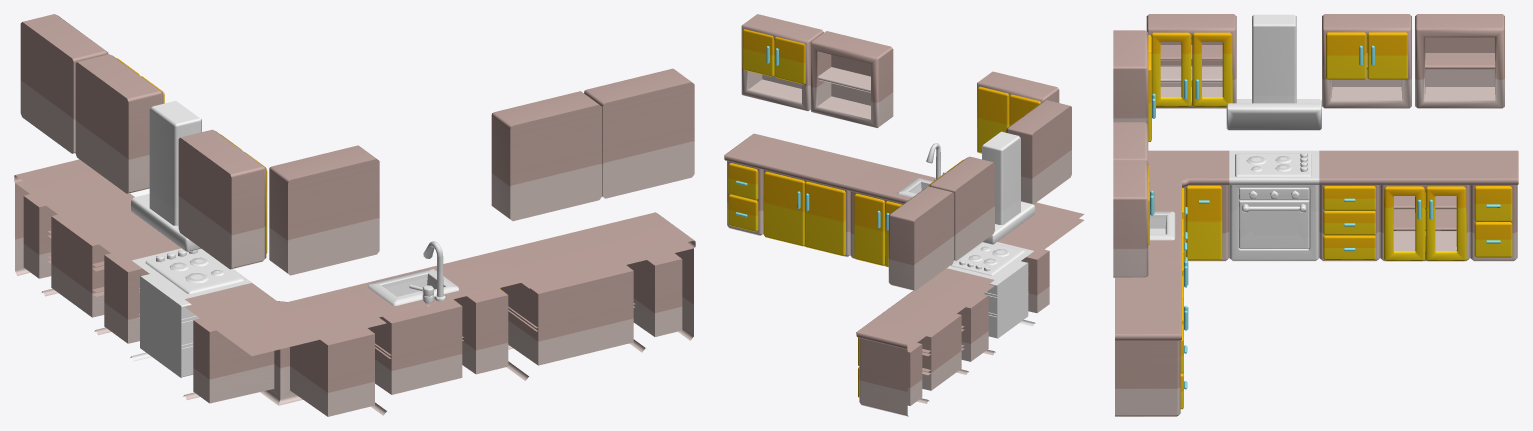
File: Kitchen_cabnets.fbx
3 views of the same model, side by side, from view 1: azimuth 30°, elevation 25°; view 2: azimuth 150°, elevation 25°; view 3: azimuth 270°, elevation 25° (orthographic). The views are drawn at different scales.
Parts seen in each view (by area): view 1: Kitchen_cabnets; view 2: Kitchen_cabnets; view 3: Kitchen_cabnets.
Boxes of the visible parts, x1,y1,x2,y2 form: Kitchen_cabnets: [14, 14, 695, 416]; Kitchen_cabnets: [724, 14, 1084, 416]; Kitchen_cabnets: [1113, 14, 1518, 416].
Bounding box in the file's own units: 826 × 466 × 767.
